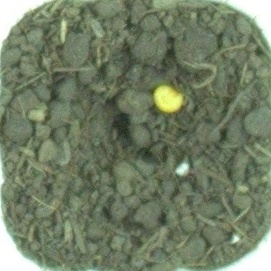chilli seed: (151, 82, 186, 115)
